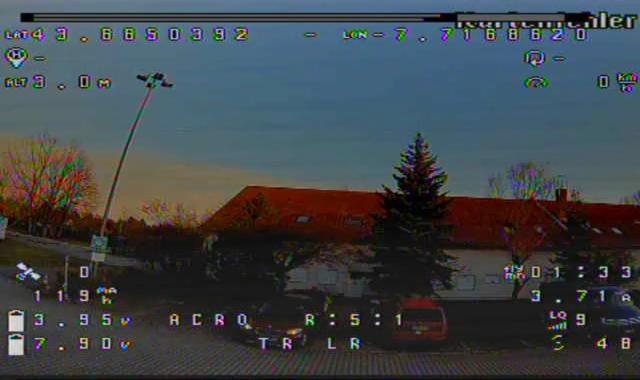car: (232, 280, 351, 356), (373, 294, 455, 353)
